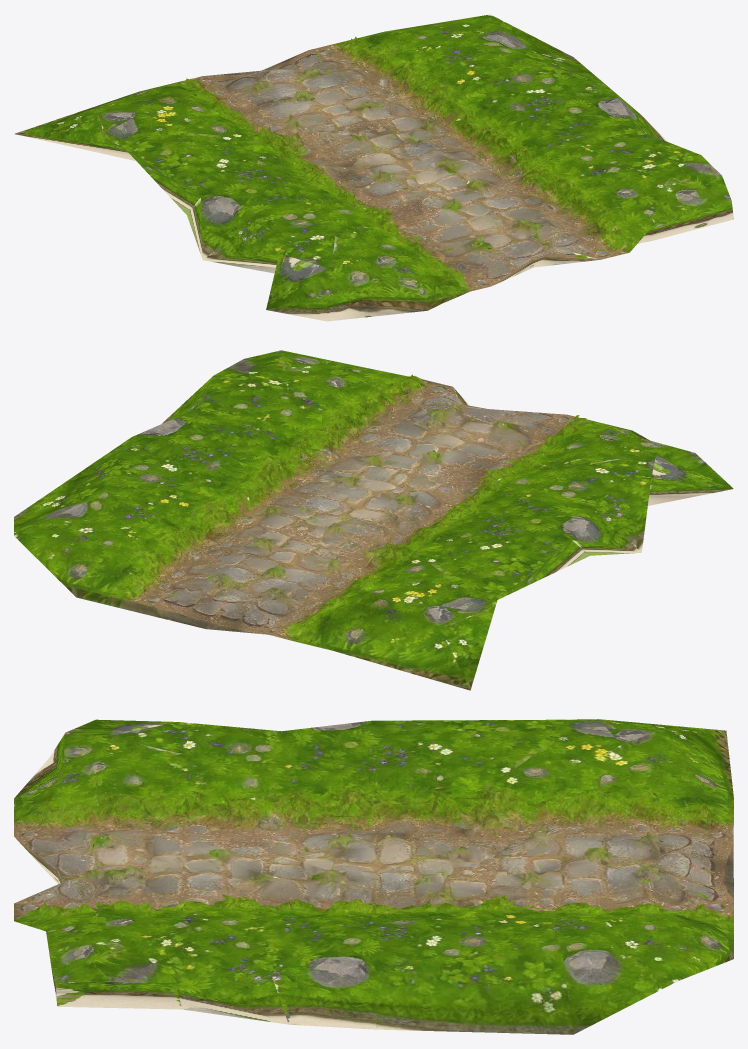
File: straight.glb
3 renders of one model, top to bottom at view 1: azimuth 30°, elevation 25°; view 2: azimuth 150°, elevation 25°; view 3: azimuth 270°, elevation 25°, orthographic. The views are drawn at different scales.
Size of the model in its own units: 1.9 by 0.1216 by 1.9.
1 material, 1 textured.
